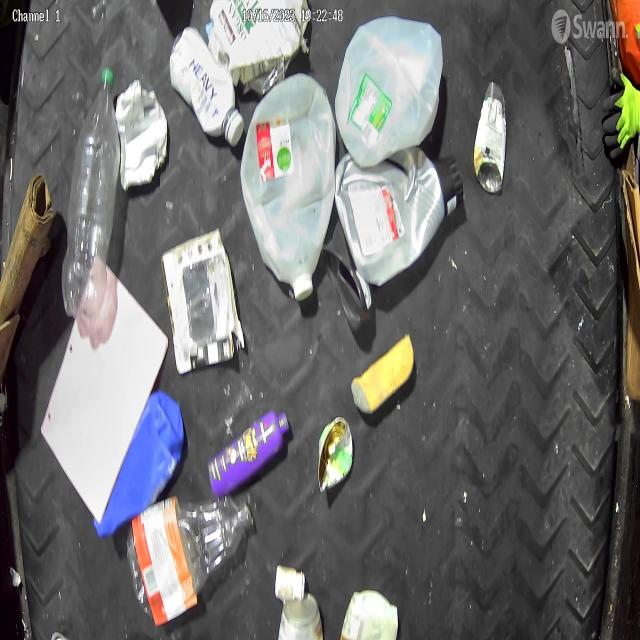can: (317, 414, 354, 494), (277, 589, 324, 640)
milk_jug: (239, 72, 337, 304), (334, 14, 444, 170)
non_white_jug: (334, 144, 466, 289), (92, 387, 187, 540)
plastic_bottle: (125, 492, 256, 622), (60, 65, 122, 321)
